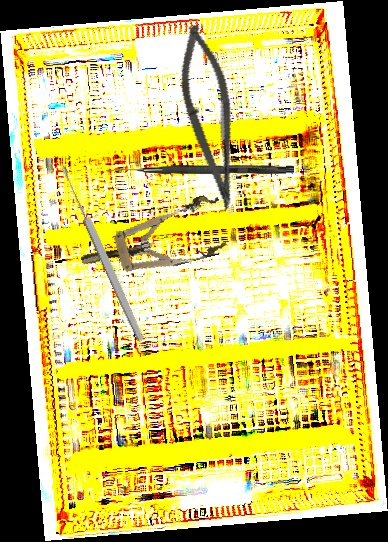Hook Surgical: (105, 163, 295, 177)
Micro Scissor: (166, 20, 258, 215)
Speculum: (73, 191, 233, 290)
Surgical Spoon: (58, 163, 147, 344)
